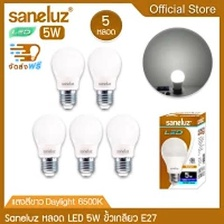carton: (156, 108, 208, 192)
light_bulb: (29, 110, 69, 181), (65, 110, 106, 179), (48, 43, 88, 111), (103, 111, 143, 179), (86, 43, 122, 112), (167, 66, 186, 98)
